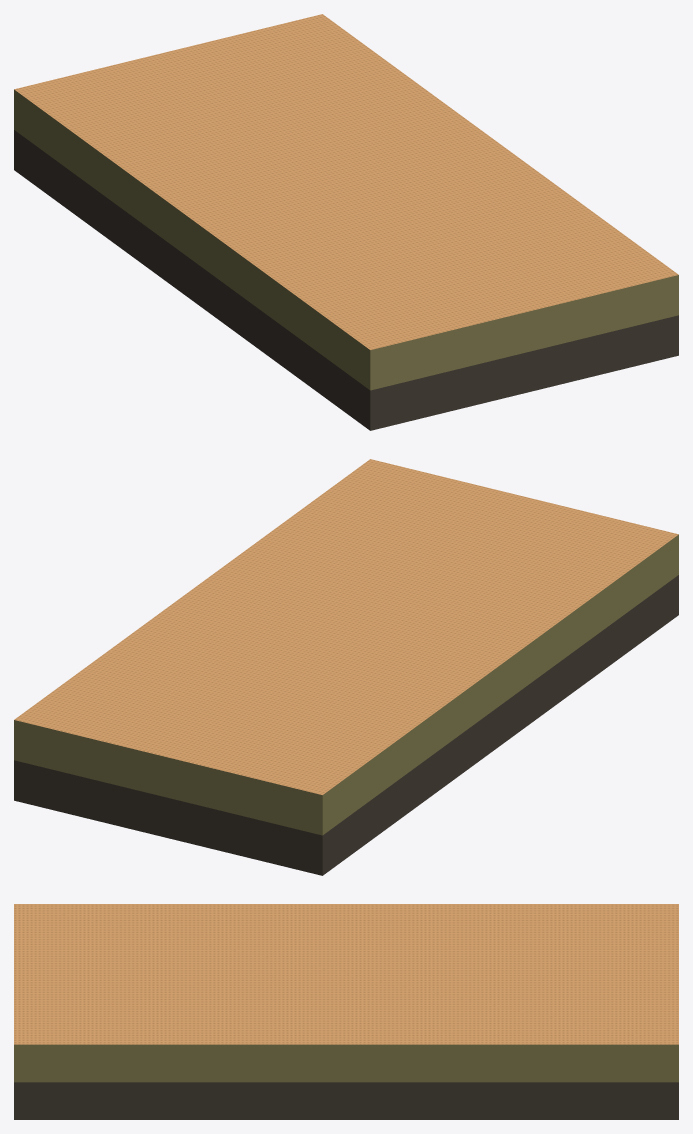
The model's file is tile1_2 full.fbx.
3 views of the same model, one above another, from view 1: azimuth 30°, elevation 25°; view 2: azimuth 150°, elevation 25°; view 3: azimuth 270°, elevation 25° (orthographic). The views are drawn at different scales.
Visible parts, largest first — view 1: Cube.001; view 2: Cube.001; view 3: Cube.001.
Part boxes in pixels (x1,y1,x2,y2): Cube.001: (14,14,678,430); Cube.001: (14,459,678,875); Cube.001: (14,904,678,1119).
Bounding box in the file's own units: 200 × 50 × 400.
1 material, 1 textured.
